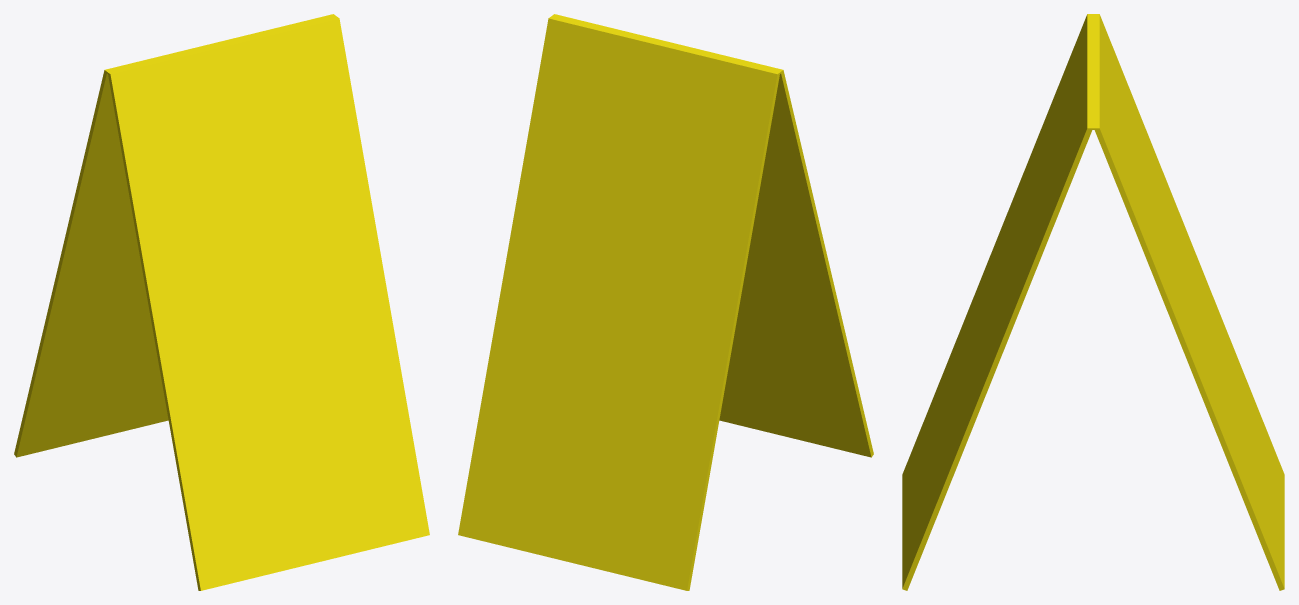
File: numero_pista.FBX
3 views of the same model, side by side, from view 1: azimuth 30°, elevation 25°; view 2: azimuth 150°, elevation 25°; view 3: azimuth 270°, elevation 25° (orthographic). The views are drawn at different scales.
Visible parts, largest first — view 1: Box002; view 2: Box002; view 3: Box002.
Boxes of the visible parts, x1,y1,x2,y2 form: Box002: [14, 14, 429, 590]; Box002: [458, 14, 873, 590]; Box002: [902, 14, 1284, 590].
Size of the model in its own units: 3.94 by 7.43 by 5.57.
